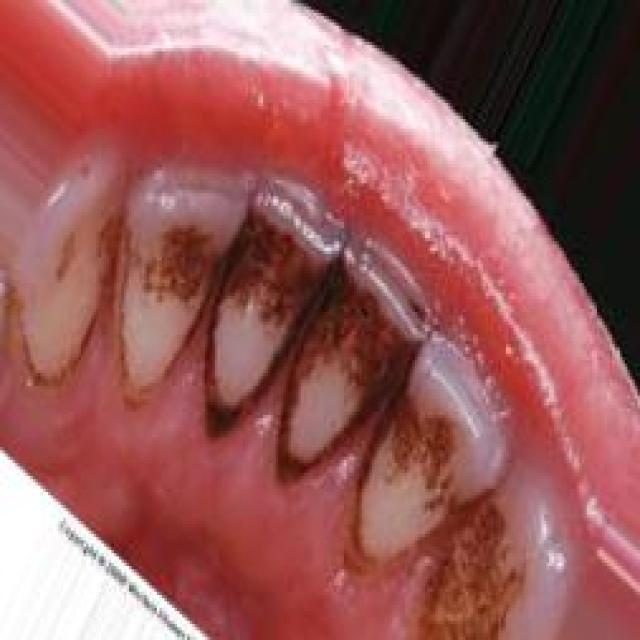calculus: (346, 328, 505, 566), (198, 168, 332, 427), (274, 243, 416, 474), (14, 142, 120, 388), (426, 493, 570, 639), (131, 164, 213, 392)
